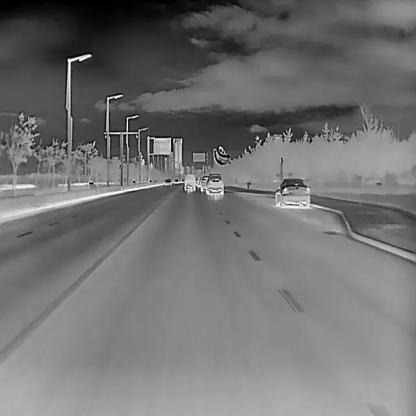car: (274, 178, 310, 210), (204, 171, 223, 195), (183, 172, 195, 191), (200, 175, 208, 191), (164, 178, 171, 186)
